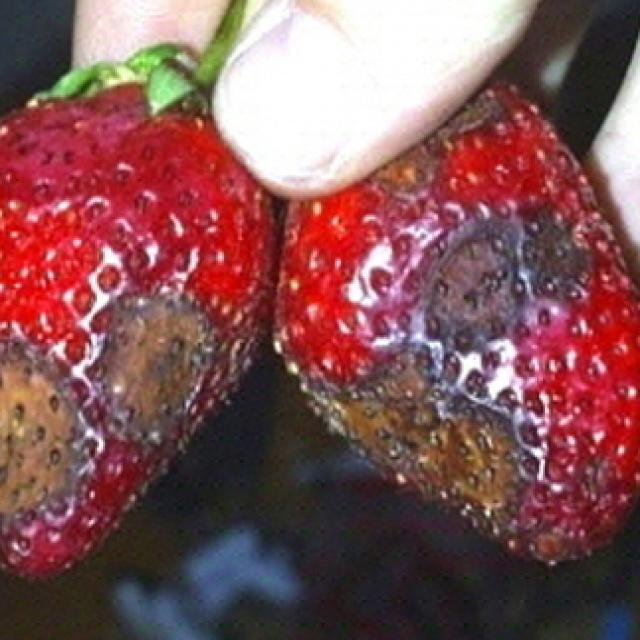Anthracnose Fruit Rot: (271, 77, 640, 571), (0, 227, 256, 571)
